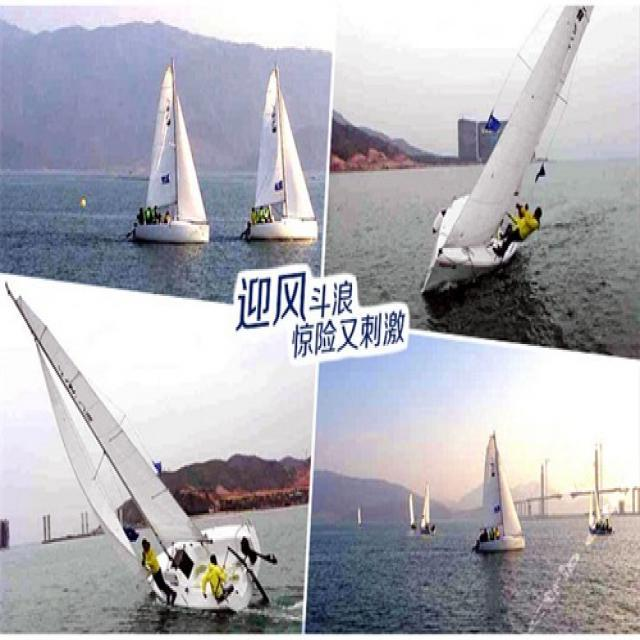Ship: (11, 276, 284, 613), (419, 4, 593, 301), (137, 58, 217, 248), (252, 62, 331, 252), (475, 424, 534, 558), (408, 472, 441, 542), (590, 452, 616, 537), (359, 497, 369, 531)
